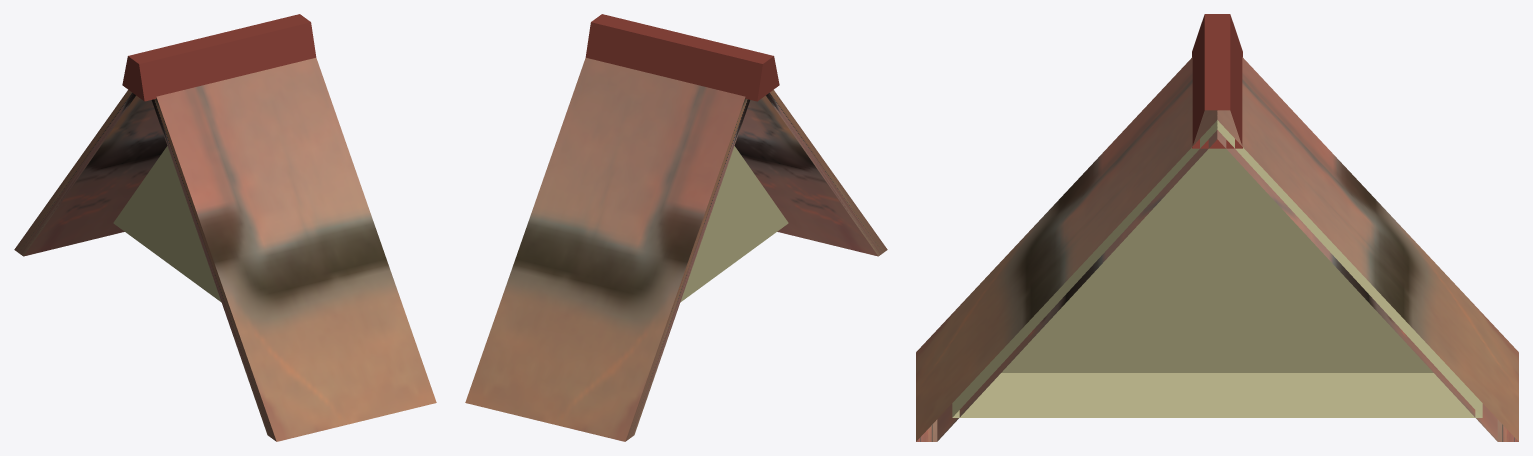
File: roof_10x6x4_head.fbx
The picture shows the model from 3 angles, left to right: view 1: azimuth 30°, elevation 25°; view 2: azimuth 150°, elevation 25°; view 3: azimuth 270°, elevation 25°; orthographic projection. The views are drawn at different scales.
Parts seen in each view (by area): view 1: roof_10x6x4_head; view 2: roof_10x6x4_head; view 3: roof_10x6x4_head.
Part boxes in pixels (x1,y1,x2,y2): roof_10x6x4_head: (14,14,436,441); roof_10x6x4_head: (465,14,887,441); roof_10x6x4_head: (916,14,1518,441).
Size of the model in its own units: 430 by 690 by 1137.
